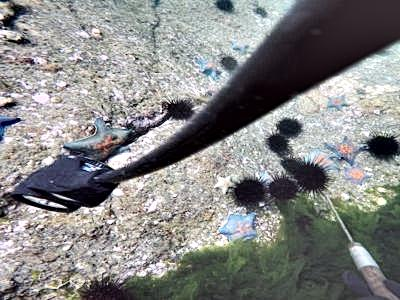urchin: (230, 172, 261, 211), (295, 160, 329, 195), (161, 92, 194, 119), (365, 130, 394, 156), (267, 171, 293, 199), (264, 131, 286, 155), (278, 115, 299, 136), (218, 53, 234, 68), (214, 1, 230, 13)
